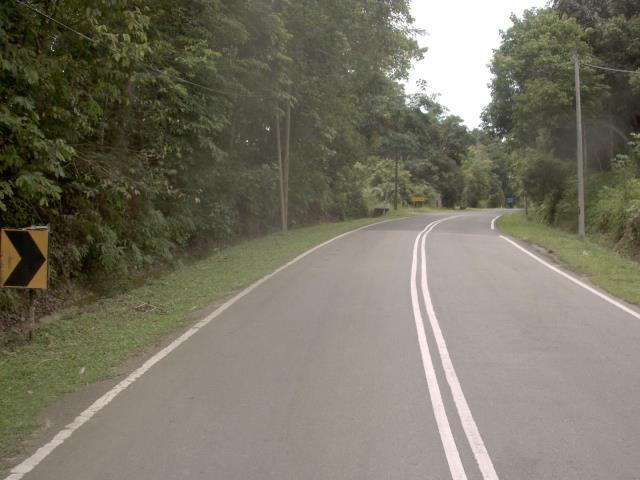traffic_sign: (0, 216, 59, 304)
